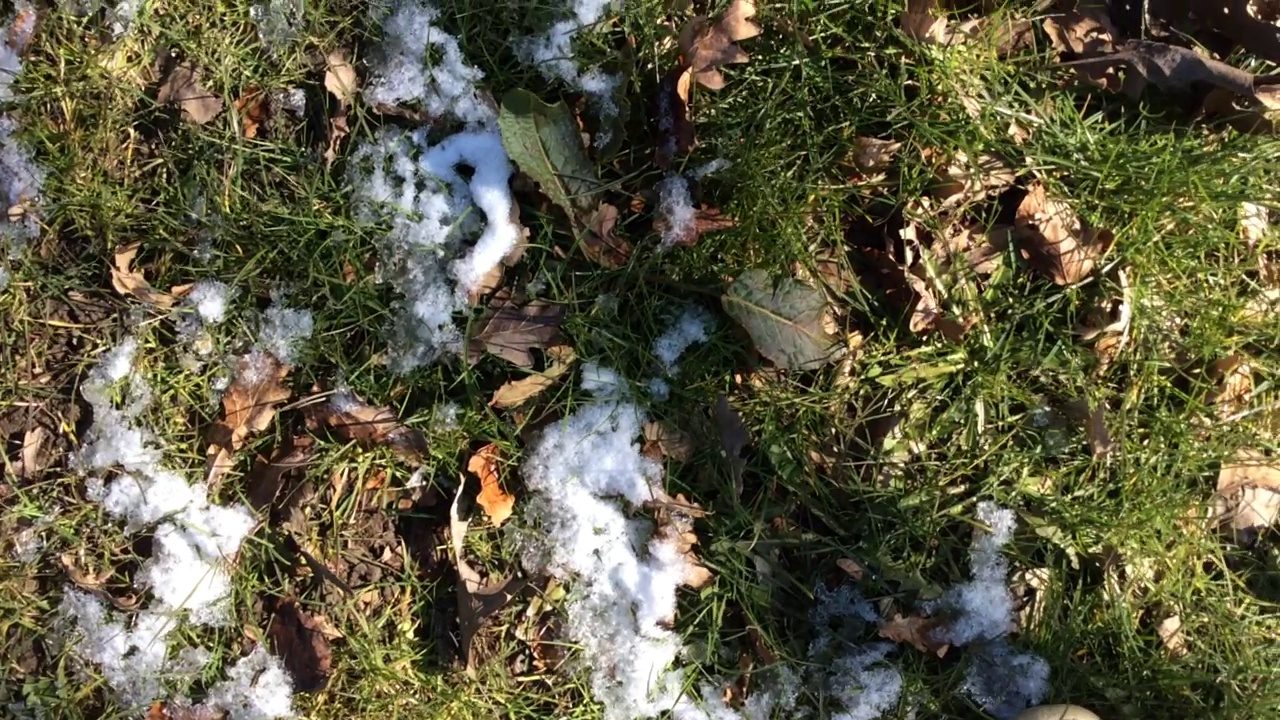root: (610, 229, 699, 300)
rumex: (495, 81, 851, 374)
